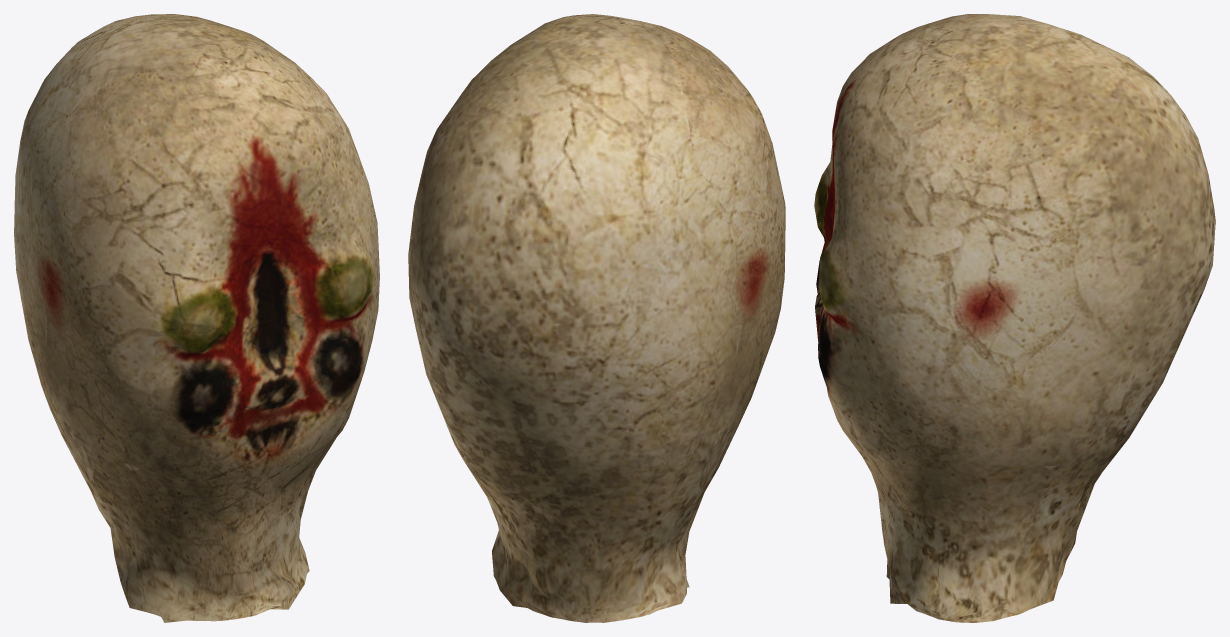
Rendered from 173head.fbx.
3 renders of one model, left to right at view 1: azimuth 30°, elevation 25°; view 2: azimuth 150°, elevation 25°; view 3: azimuth 270°, elevation 25°, orthographic. The views are drawn at different scales.
Parts seen in each view (by area): view 1: Scene_Root; view 2: Scene_Root; view 3: Scene_Root.
Boxes of the visible parts, x1=… form: Scene_Root: x1=14, y1=14, x2=379, y2=622; Scene_Root: x1=408, y1=14, x2=785, y2=622; Scene_Root: x1=814, y1=14, x2=1215, y2=622.
Size of the model in its own units: 4.29 by 7.54 by 4.98.
